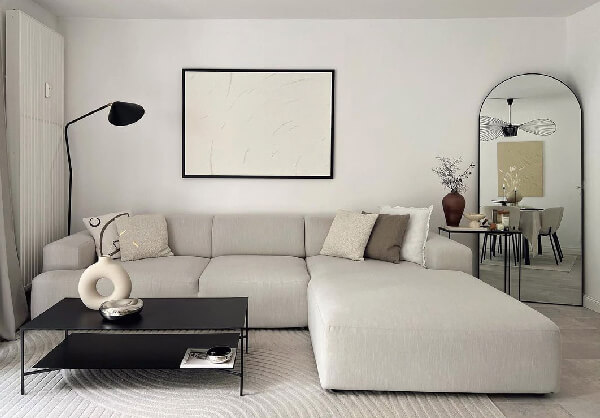dining table set: (487, 177, 563, 267)
floor lamp: (57, 99, 147, 236)
flower vase: (432, 150, 475, 227)
sofa: (25, 205, 562, 400)
table: (15, 292, 253, 399)
wall art: (178, 66, 336, 180)
